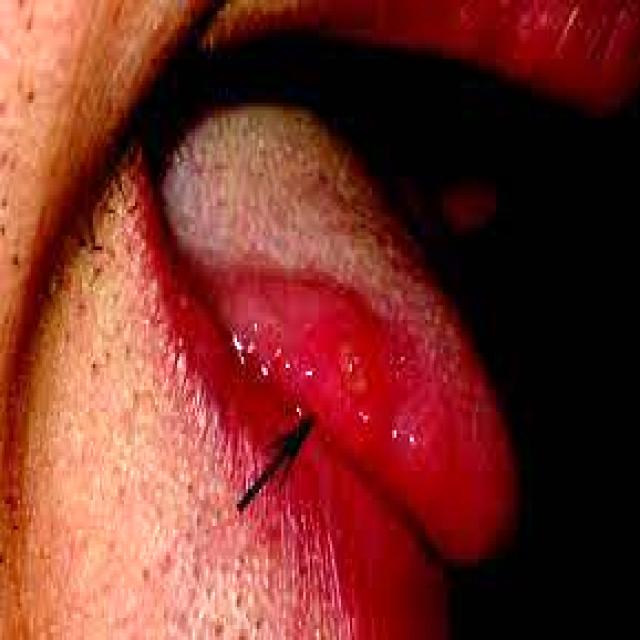ulcer: (162, 103, 514, 552)
